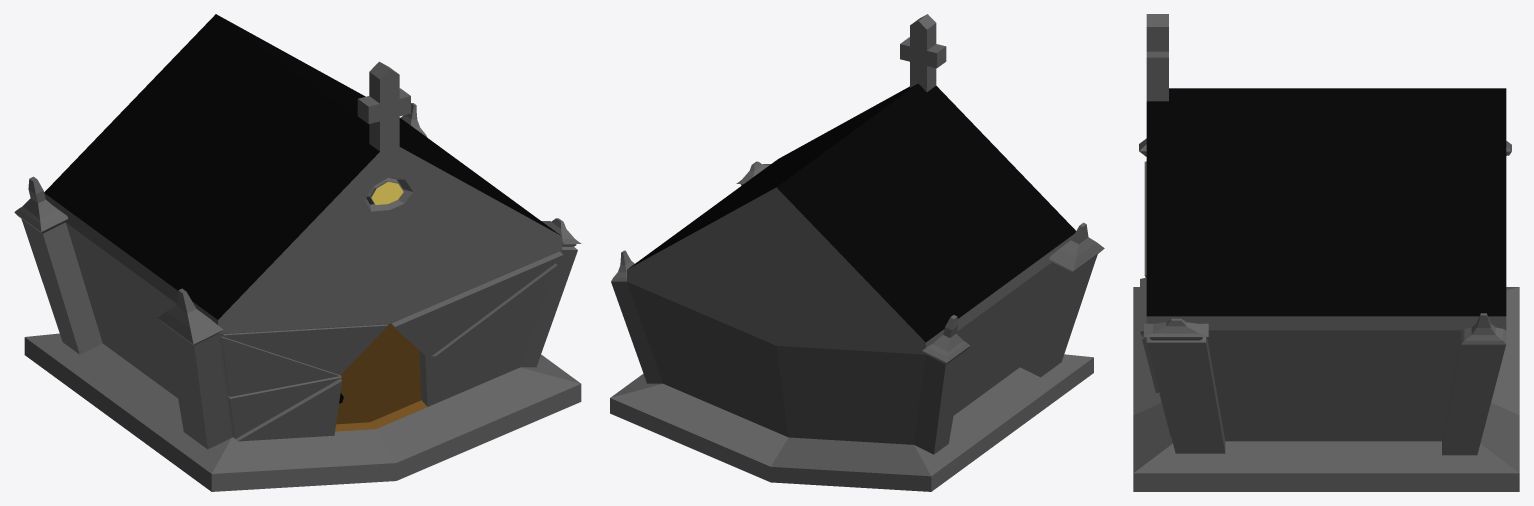
Rendered from HOUSE 3.fbx.
3 views of the same model, side by side, from view 1: azimuth 30°, elevation 25°; view 2: azimuth 150°, elevation 25°; view 3: azimuth 270°, elevation 25° (orthographic). The views are drawn at different scales.
Visible parts, largest first — view 1: Cube; view 2: Cube; view 3: Cube.
Part boxes in pixels (<box>): Cube: <box>14,14,581,491</box>; Cube: <box>610,14,1104,491</box>; Cube: <box>1133,14,1519,491</box>.
Bounding box in the file's own units: 681 × 678 × 565.
